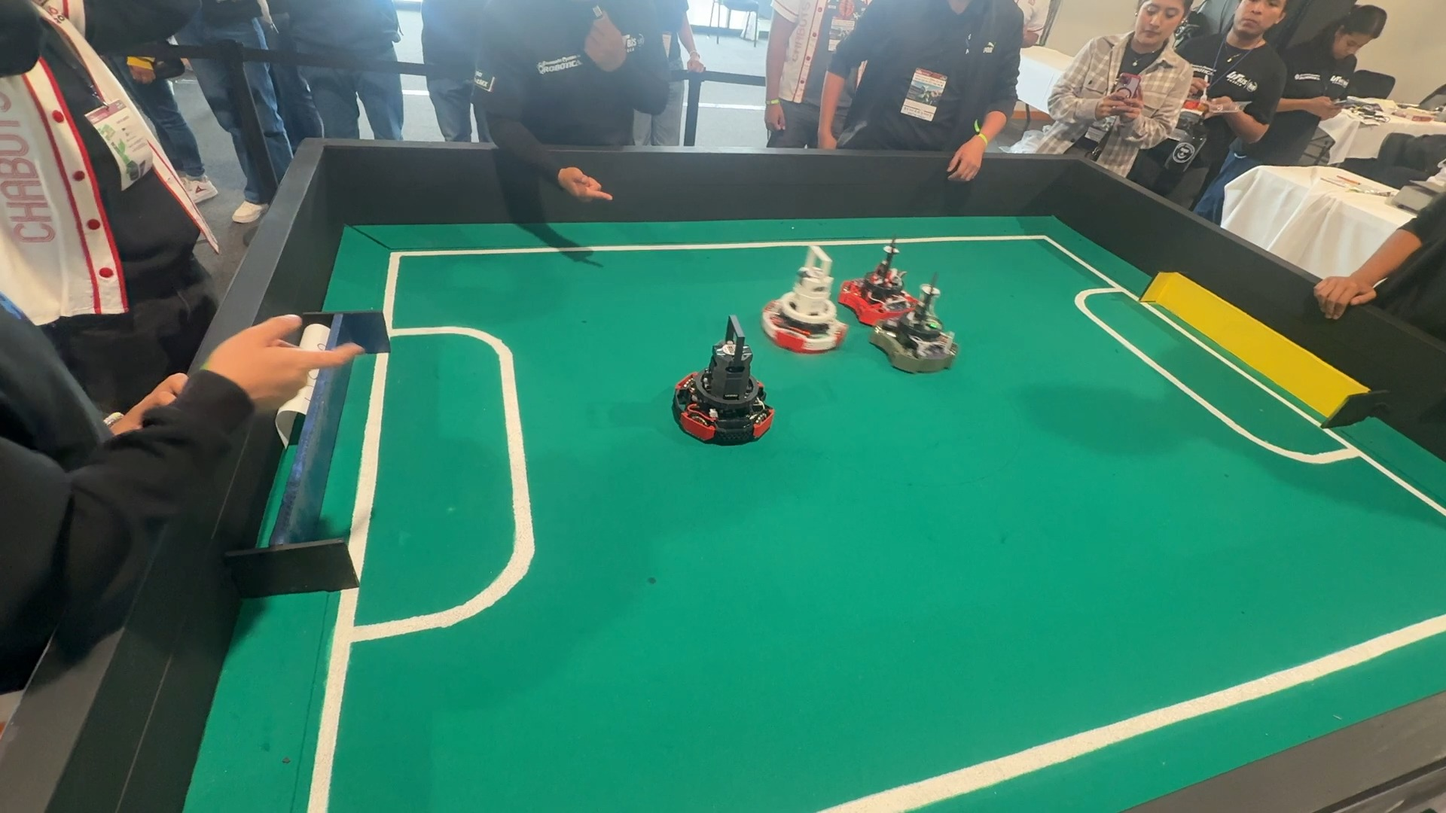Robot: (664, 315, 778, 459), (864, 272, 965, 382), (757, 242, 851, 356), (840, 251, 919, 325)
